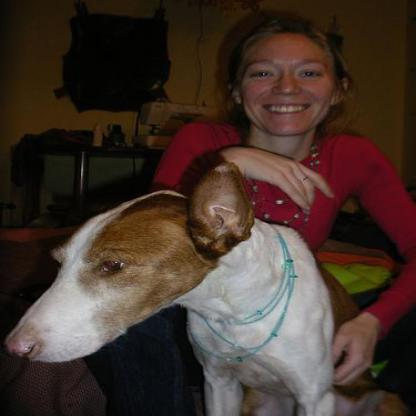dog: (18, 155, 336, 416)
